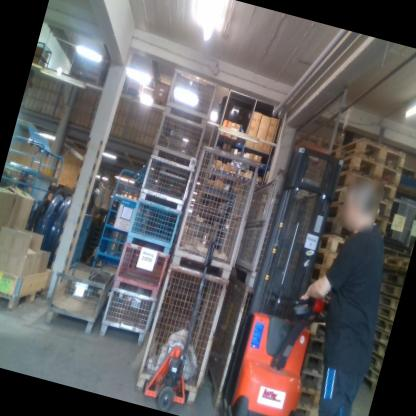pallet: (336, 134, 406, 170), (0, 271, 50, 321), (333, 154, 401, 186), (325, 216, 385, 246), (332, 186, 393, 215), (336, 171, 397, 199), (328, 202, 389, 226), (298, 371, 327, 391), (297, 385, 324, 405), (306, 336, 328, 359), (303, 356, 328, 374), (384, 251, 408, 269), (320, 235, 342, 252), (379, 281, 401, 298), (316, 250, 335, 268), (309, 321, 329, 338), (382, 270, 405, 284), (310, 264, 328, 280), (376, 304, 396, 318), (294, 405, 319, 416), (379, 293, 398, 307), (375, 316, 392, 331), (371, 339, 386, 354), (374, 328, 390, 341), (369, 355, 382, 369), (363, 379, 376, 389), (366, 370, 378, 380)
pallet_truck: (219, 134, 367, 416), (138, 228, 233, 416)
stillage: (195, 274, 307, 416), (129, 258, 233, 407), (167, 140, 265, 280), (229, 161, 327, 298), (40, 252, 114, 340), (96, 278, 159, 349), (160, 66, 222, 127), (148, 109, 209, 169), (135, 155, 196, 210), (123, 197, 182, 253), (112, 241, 170, 293)
